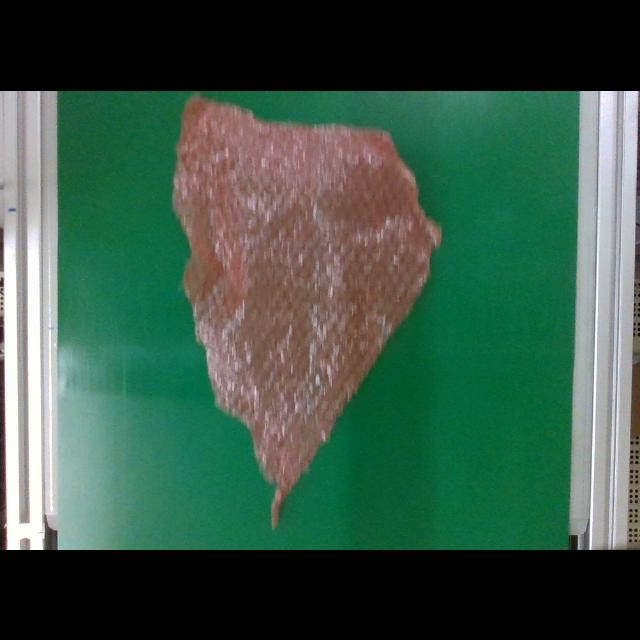scrap_plastic: (165, 91, 443, 532)
